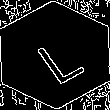L_NW: (25, 26, 85, 84)
